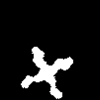single_crochet: (21, 47, 72, 97)
